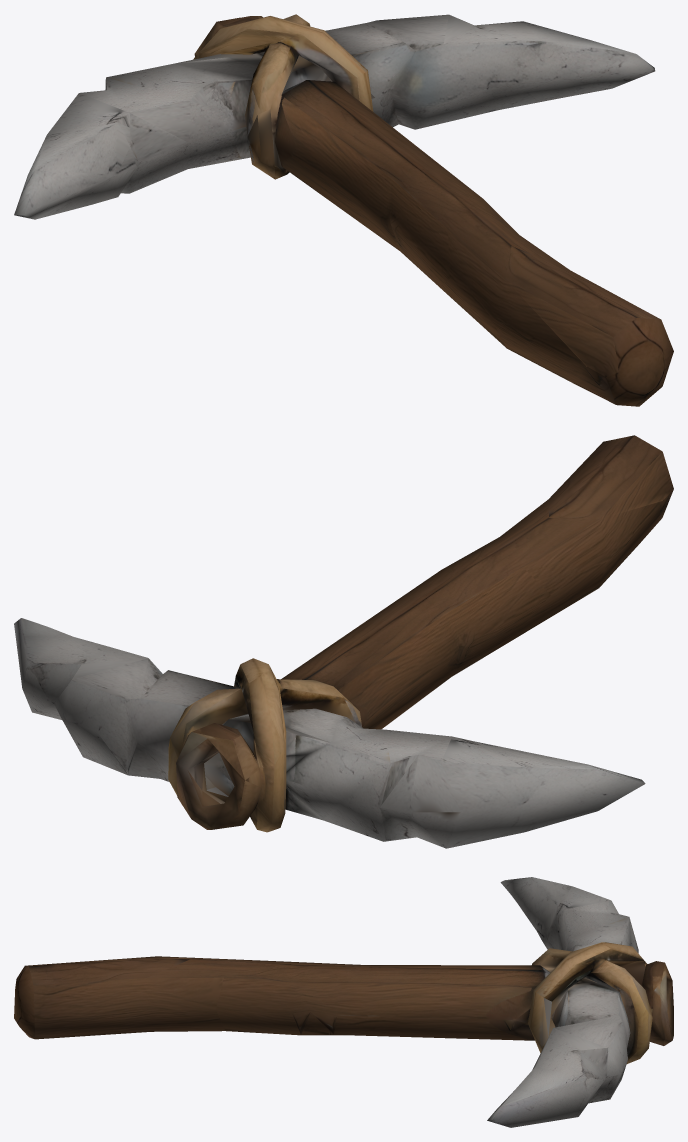
3 views of the same model, one above another, from view 1: azimuth 30°, elevation 25°; view 2: azimuth 150°, elevation 25°; view 3: azimuth 270°, elevation 25° (orthographic). The views are drawn at different scales.
Visible parts, largest first — view 1: texture_pbr_v128; view 2: texture_pbr_v128; view 3: texture_pbr_v128.
Part boxes in pixels (x1,y1,x2,y2): texture_pbr_v128: (14,14,673,406); texture_pbr_v128: (14,435,673,848); texture_pbr_v128: (14,877,673,1127).
Size of the model in its own units: 103 by 22.2 by 120.
1 material, 1 textured.
